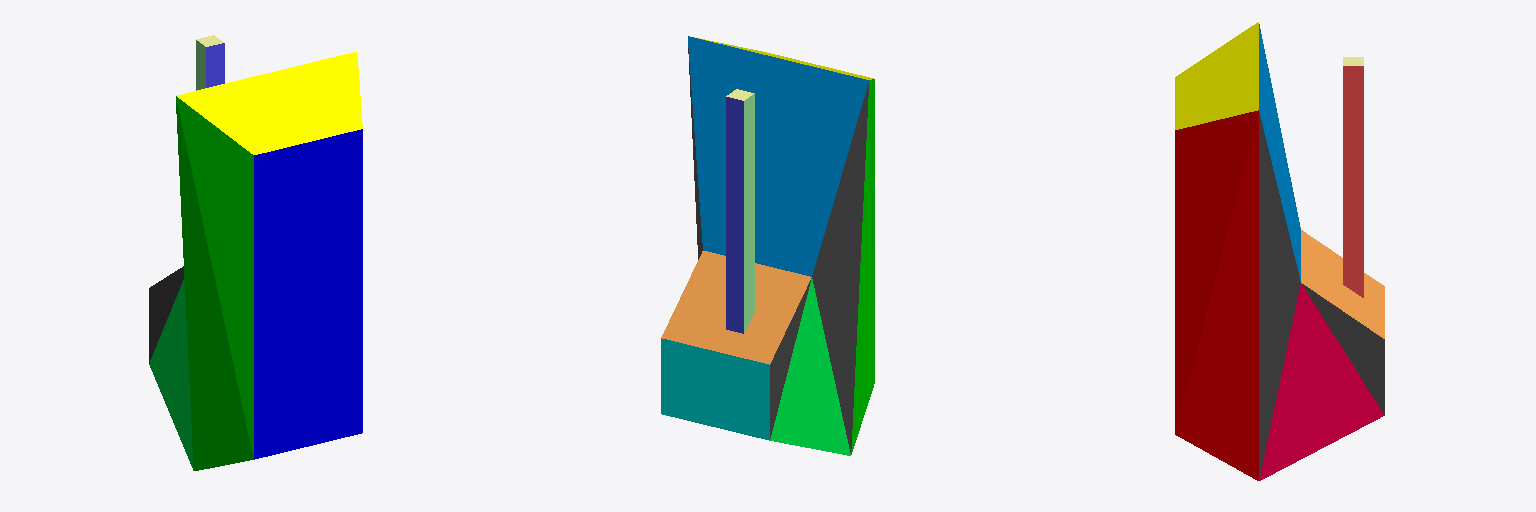
The picture shows the model from 3 angles: view 1: azimuth 30°, elevation 25°; view 2: azimuth 150°, elevation 25°; view 3: azimuth 270°, elevation 25°; orthographic projection.
Parts seen in each view (by area): view 1: HeavyTank; view 2: HeavyTank; view 3: HeavyTank.
Boxes of the visible parts, <box> form: HeavyTank: <box>149,35,362,470</box>; HeavyTank: <box>661,36,874,455</box>; HeavyTank: <box>1175,22,1384,480</box>.
Size of the model in its own units: 1 by 2 by 1.
Materials: 1 (1 with a texture image).